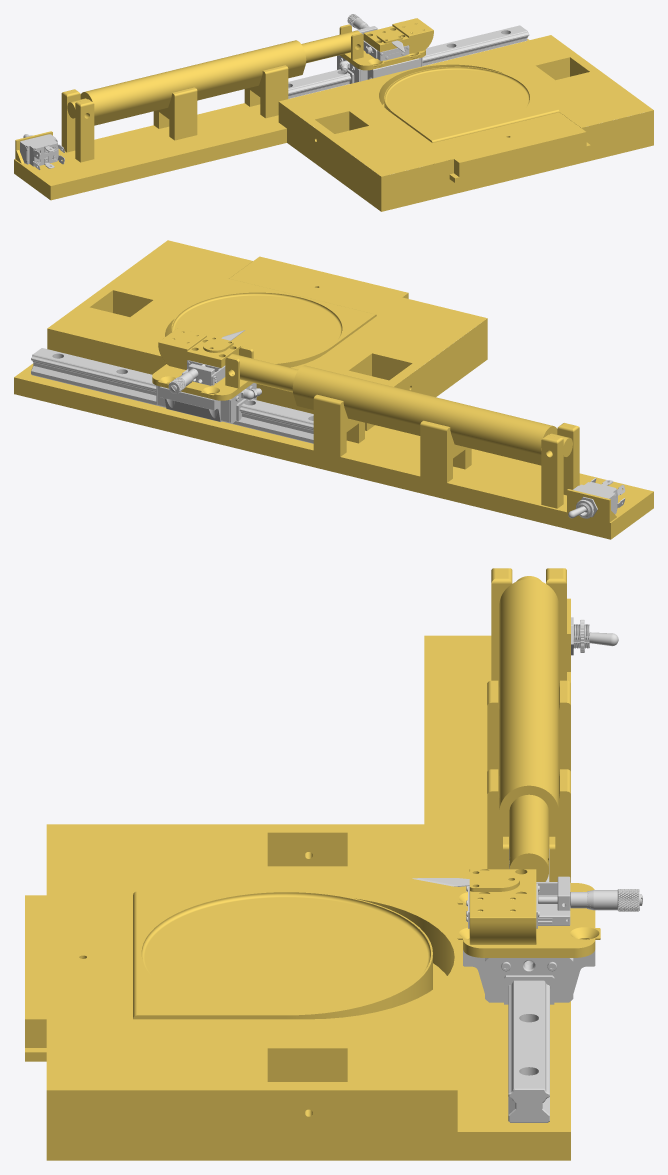
Rendered from actuator-cutting-fixture.glb.
The picture shows the model from 3 angles, top to bottom: view 1: azimuth 30°, elevation 25°; view 2: azimuth 150°, elevation 25°; view 3: azimuth 270°, elevation 25°; orthographic projection. The views are drawn at different scales.
Parts seen in each view (by area): view 1: MCTF Base Plate-1, MCTF Slide-1, Actuator Base-1, 6709K41_20 mm Wide x 280 mm Long Guide Rail for Ball Bearing, KnifeLowerClamp-2, 7343K924_Toggle Switch-1, MCTF Carriage Fixture 2-1, ActuatorRod-1, 6709K13_Ball Bearing Carriage-1, 5239A25_Positioning Table with Micrometer-1; view 2: MCTF Base Plate-1, MCTF Slide-1, Actuator Base-1, 6709K41_20 mm Wide x 280 mm Long Guide Rail for Ball Bearing, 6709K13_Ball Bearing Carriage-1, KnifeLowerClamp-2, MCTF Carriage Fixture 2-1, ActuatorRod-1, 7343K924_Toggle Switch-1, 5239A25_Positioning Table with Micrometer-1; view 3: MCTF Base Plate-1, MCTF Slide-1, Actuator Base-1, 6709K41_20 mm Wide x 280 mm Long Guide Rail for Ball Bearing, MCTF Carriage Fixture 2-1, KnifeLowerClamp-2, 6709K13_Ball Bearing Carriage-1, 5239A25_Positioning Table with Micrometer-1, ActuatorRod-1, Knife Clamp V4-1, 7343K924_Toggle Switch-1.
Part boxes in pixels (bbox=[...]): MCTF Base Plate-1: bbox=[14, 35, 653, 211]; MCTF Slide-1: bbox=[384, 66, 590, 182]; Actuator Base-1: bbox=[67, 40, 306, 125]; 6709K41_20 mm Wide x 280 mm Long Guide Rail for Ball Bearing: bbox=[288, 25, 529, 98]; KnifeLowerClamp-2: bbox=[363, 18, 433, 53]; 7343K924_Toggle Switch-1: bbox=[20, 134, 64, 169]; MCTF Carriage Fixture 2-1: bbox=[339, 24, 425, 70]; ActuatorRod-1: bbox=[301, 30, 359, 63]; 6709K13_Ball Bearing Carriage-1: bbox=[337, 55, 422, 83]; 5239A25_Positioning Table with Micrometer-1: bbox=[347, 14, 409, 60]; MCTF Base Plate-1: bbox=[14, 240, 653, 539]; MCTF Slide-1: bbox=[171, 256, 408, 367]; Actuator Base-1: bbox=[292, 365, 572, 465]; 6709K41_20 mm Wide x 280 mm Long Guide Rail for Ball Bearing: bbox=[31, 348, 313, 443]; 6709K13_Ball Bearing Carriage-1: bbox=[156, 383, 261, 423]; KnifeLowerClamp-2: bbox=[158, 328, 240, 369]; MCTF Carriage Fixture 2-1: bbox=[152, 346, 253, 400]; ActuatorRod-1: bbox=[229, 354, 298, 392]; 7343K924_Toggle Switch-1: bbox=[568, 478, 625, 518]; 5239A25_Positioning Table with Micrometer-1: bbox=[168, 360, 225, 393]; MCTF Base Plate-1: bbox=[46, 568, 570, 1160]; MCTF Slide-1: bbox=[25, 891, 432, 1061]; Actuator Base-1: bbox=[499, 576, 558, 838]; 6709K41_20 mm Wide x 280 mm Long Guide Rail for Ball Bearing: bbox=[508, 849, 549, 1122]; MCTF Carriage Fixture 2-1: bbox=[457, 836, 600, 957]; KnifeLowerClamp-2: bbox=[469, 869, 536, 944]; 6709K13_Ball Bearing Carriage-1: bbox=[463, 950, 595, 1004]; 5239A25_Positioning Table with Micrometer-1: bbox=[466, 876, 642, 928]; ActuatorRod-1: bbox=[509, 794, 548, 881]; Knife Clamp V4-1: bbox=[469, 870, 519, 891]; 7343K924_Toggle Switch-1: bbox=[571, 617, 618, 655].
Bounding box in the file's own units: 0.56 × 0.0767 × 0.2945.
